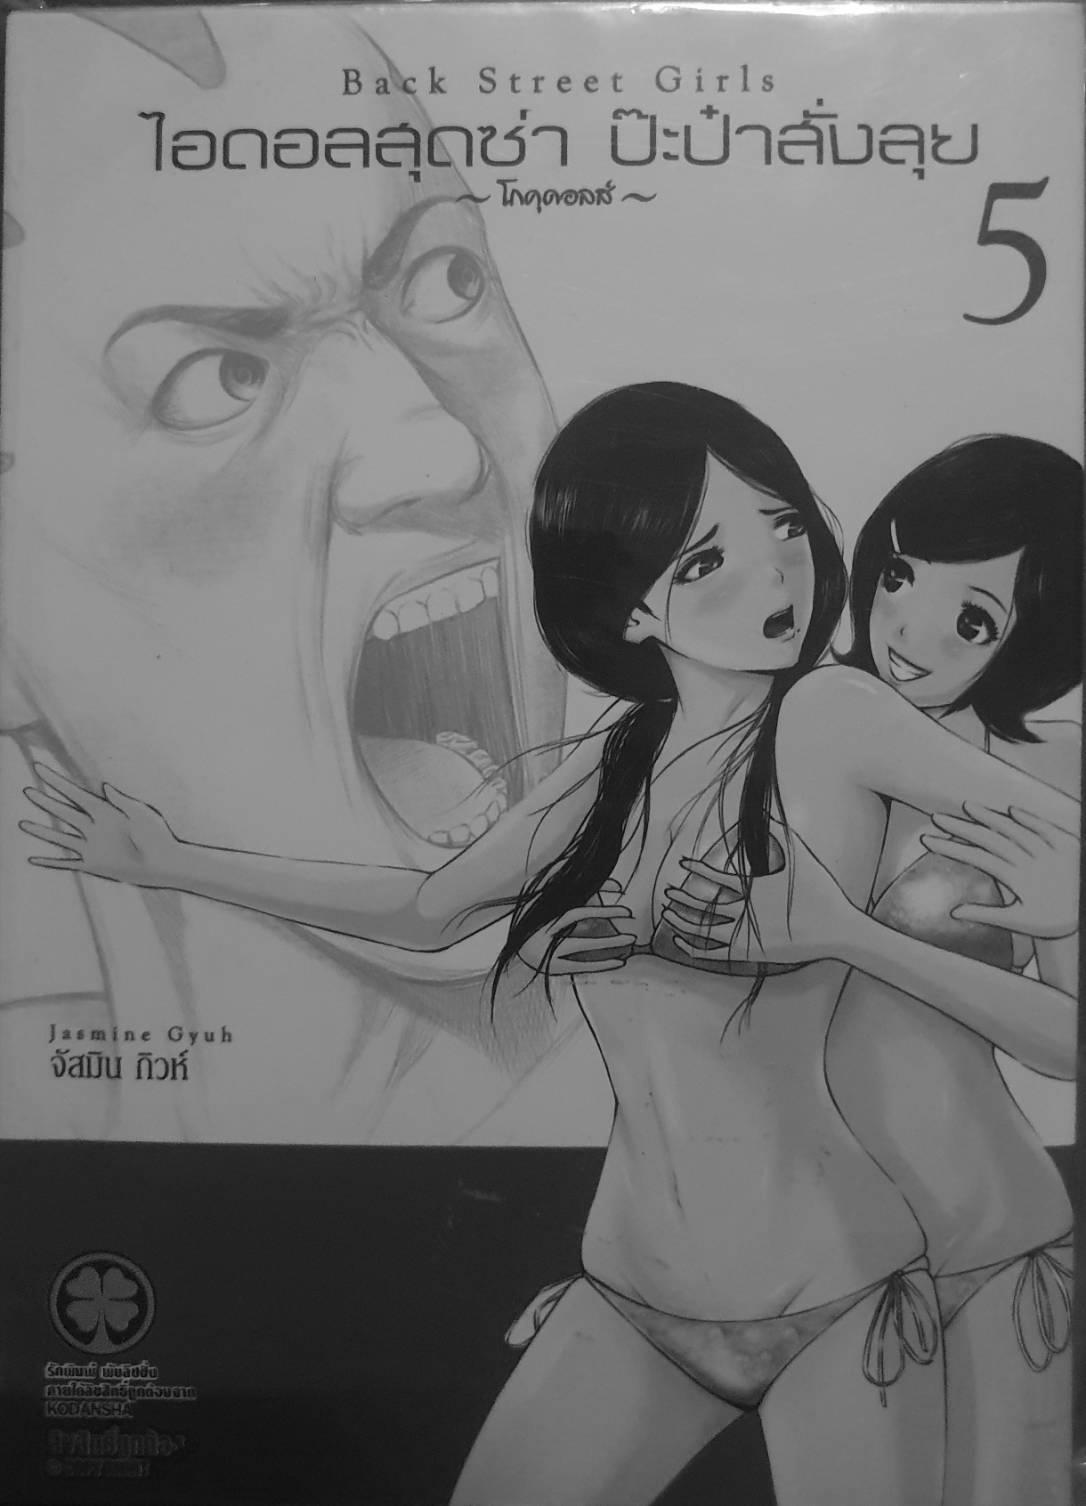Zenshu: (21, 20, 1073, 1501)
